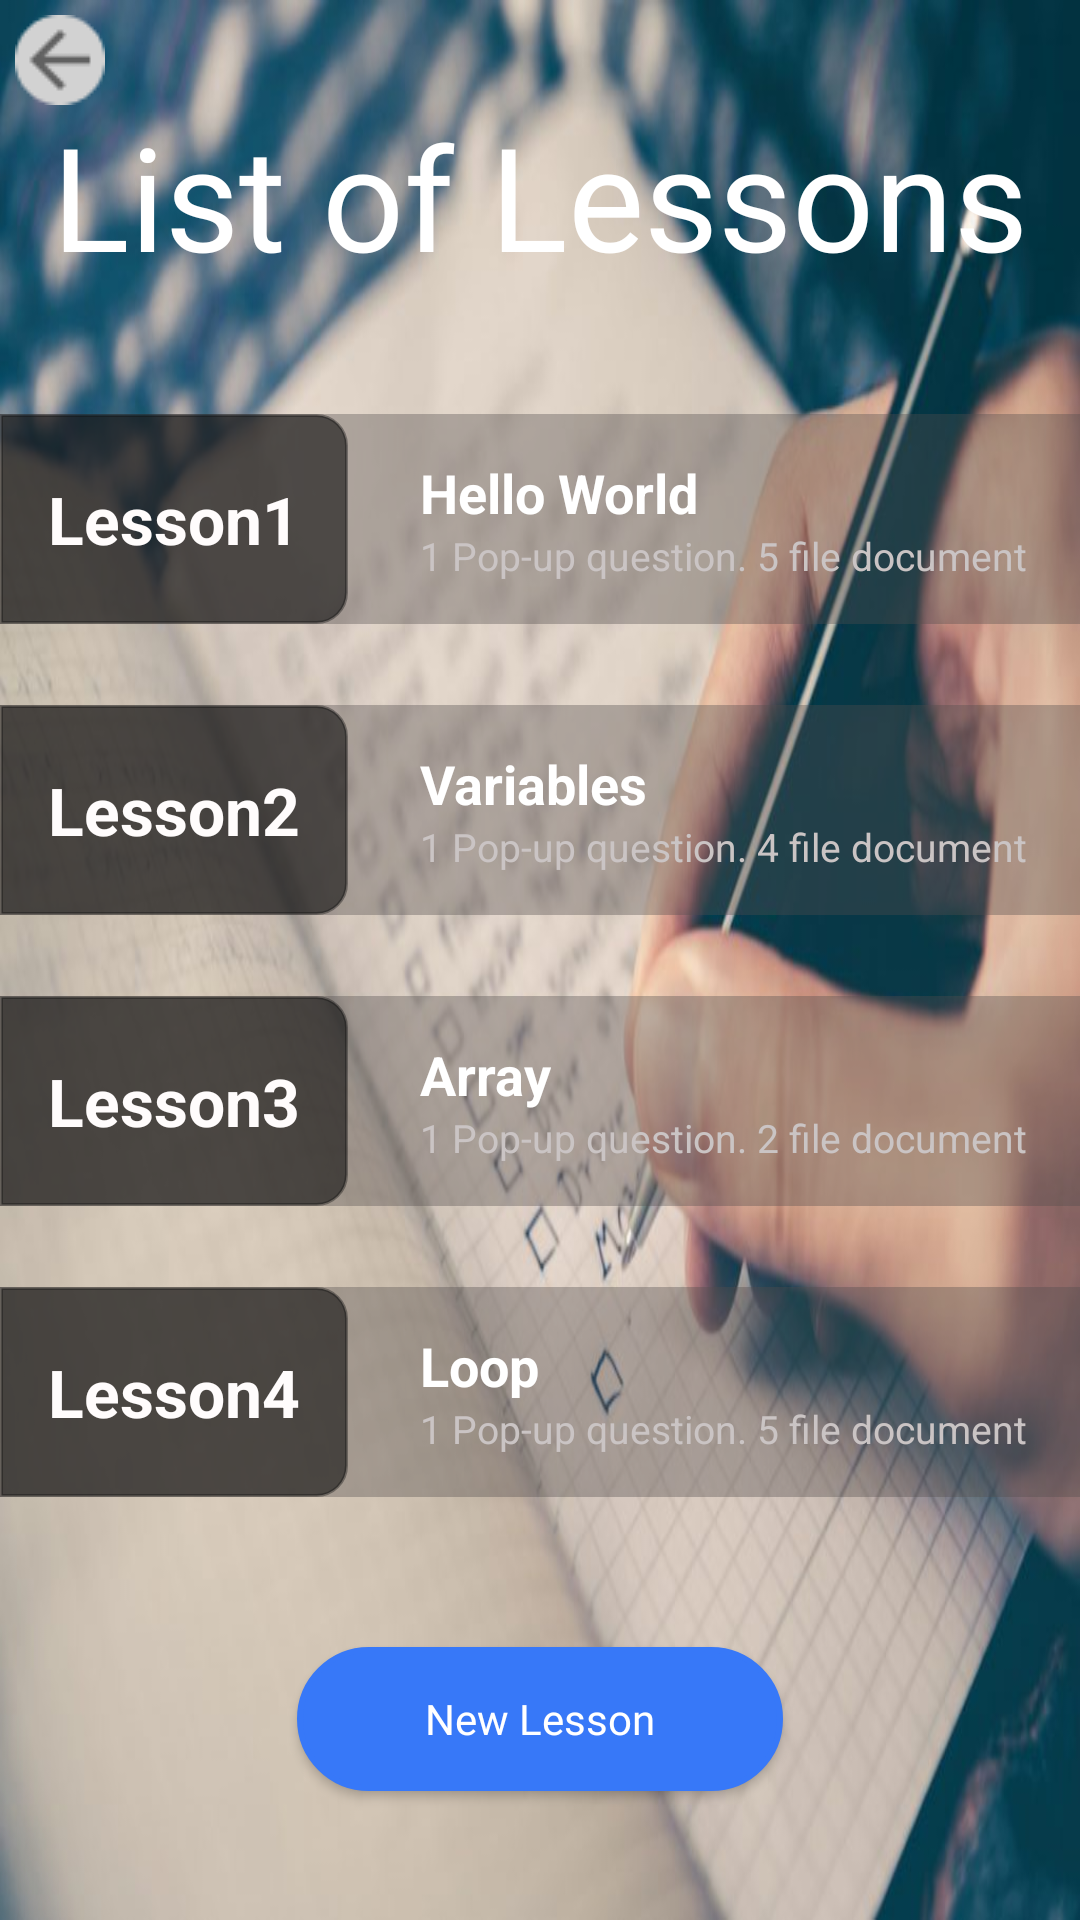

Where to tap for icons on this 1080px x 1920px app screen, as (x,y):
back: (60,60)
